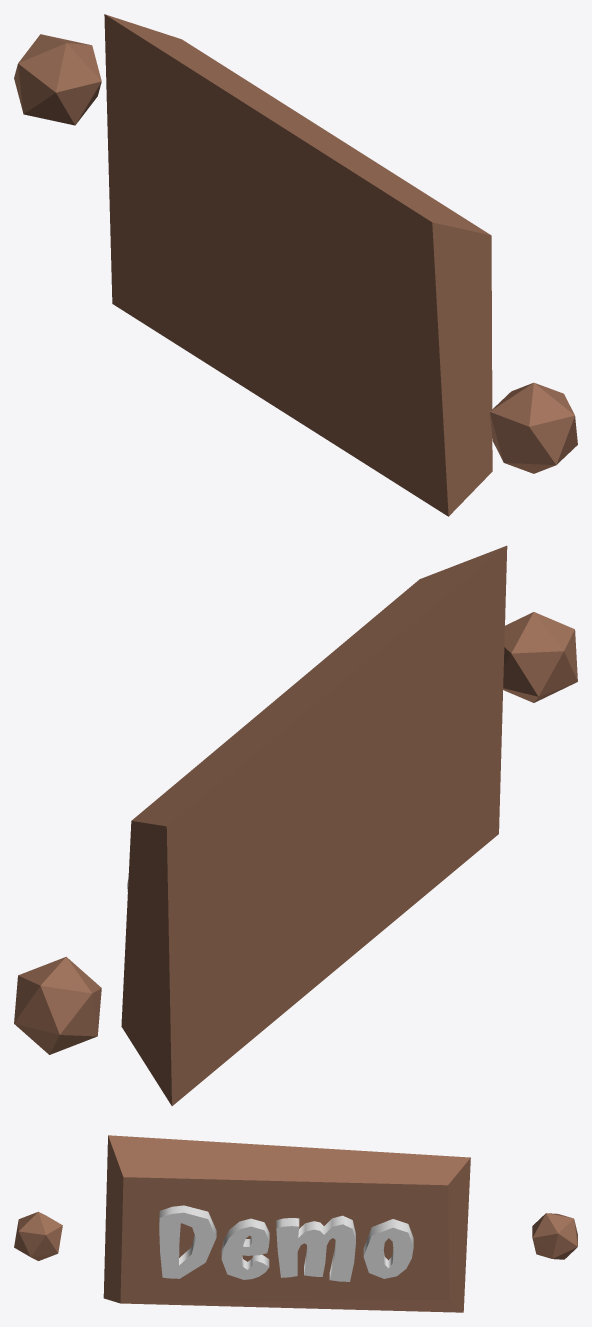
The model's file is act-1-button-demo.glb.
The picture shows the model from 3 angles, top to bottom: view 1: azimuth 30°, elevation 25°; view 2: azimuth 150°, elevation 25°; view 3: azimuth 270°, elevation 25°; orthographic projection. The views are drawn at different scales.
Parts seen in each view (by area): view 1: act-1-button-demo; view 2: act-1-button-demo; view 3: act-1-button-demo.
Part boxes in pixels (x1=…): act-1-button-demo: x1=14, y1=14, x2=577, y2=516; act-1-button-demo: x1=14, y1=545, x2=577, y2=1105; act-1-button-demo: x1=14, y1=1135, x2=577, y2=1312.
Size of the model in its own units: 0.1095 by 0.343 by 0.9997.
